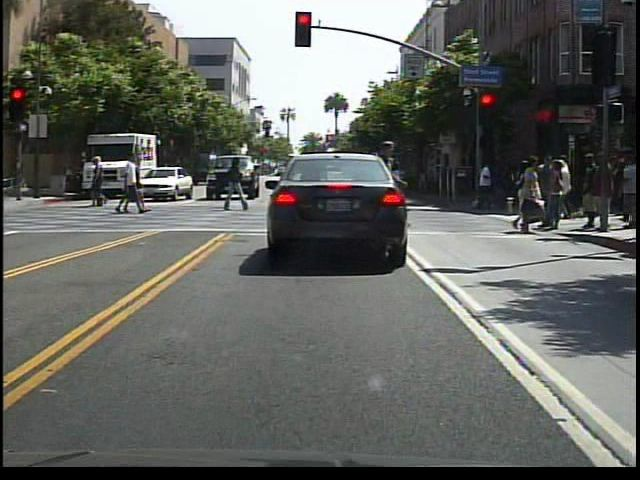person: (361, 117, 404, 249), (504, 154, 549, 240), (116, 153, 150, 223), (218, 156, 251, 214), (549, 153, 574, 224), (88, 155, 110, 213), (476, 156, 494, 218)
